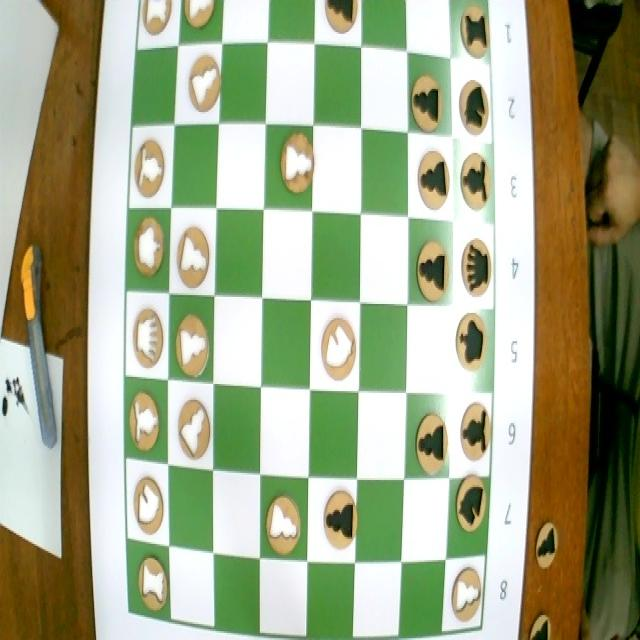chess-pieces: (313, 489, 361, 563), (317, 307, 359, 389), (169, 389, 212, 469), (169, 306, 214, 382), (260, 486, 305, 560), (410, 231, 450, 306), (128, 298, 168, 372), (410, 405, 450, 478), (124, 388, 164, 460), (456, 398, 495, 470), (128, 215, 168, 285), (407, 68, 448, 136), (184, 48, 223, 115), (412, 146, 452, 211), (174, 220, 212, 288), (134, 132, 170, 203), (457, 68, 493, 138), (458, 236, 493, 308), (132, 551, 172, 614), (277, 128, 314, 196), (449, 473, 487, 537), (453, 306, 488, 374), (448, 561, 482, 629), (131, 476, 168, 534), (458, 152, 492, 215), (459, 1, 491, 64), (317, 0, 362, 44), (138, 0, 176, 41), (179, 0, 215, 33)
